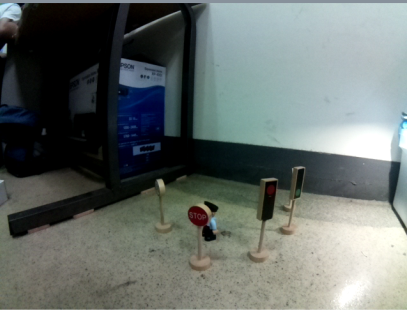Green: (288, 164, 304, 204)
Red: (256, 177, 277, 225)
Stop: (183, 202, 212, 227)
